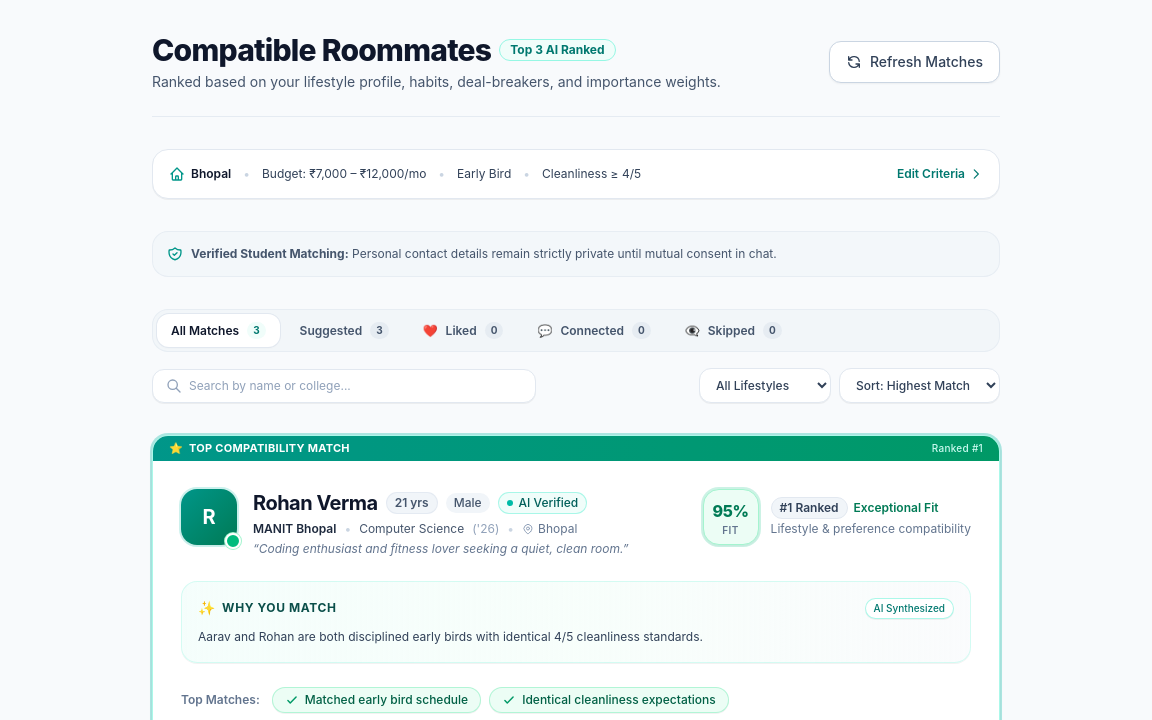
Test: MatchesPage Component › filters matches dynamically via search input
expect the heading "Rohan Verma" is shown: met, box [253,489,378,517]
Type "IISER" into the field named "Search matches by name or college" at (344, 386), box [152,369,536,403]
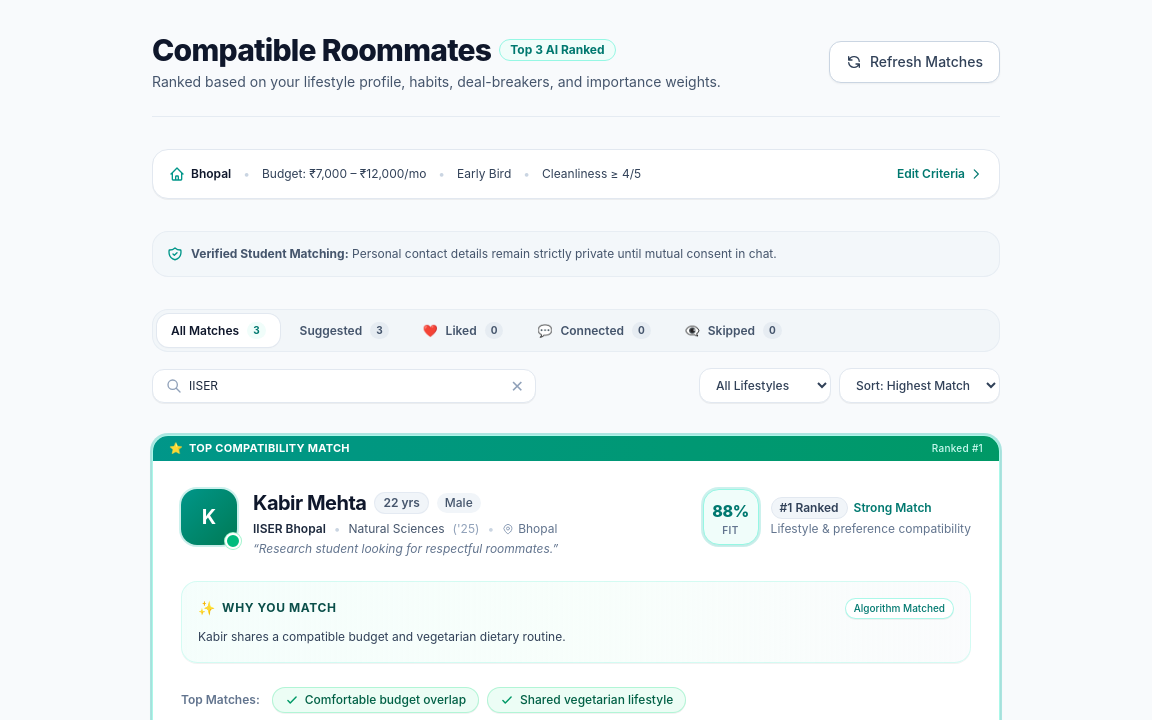
expect the heading "Kabir Mehta" is shown: met, box [253,489,366,517]
expect the heading "Rohan Verma" is gone: met
